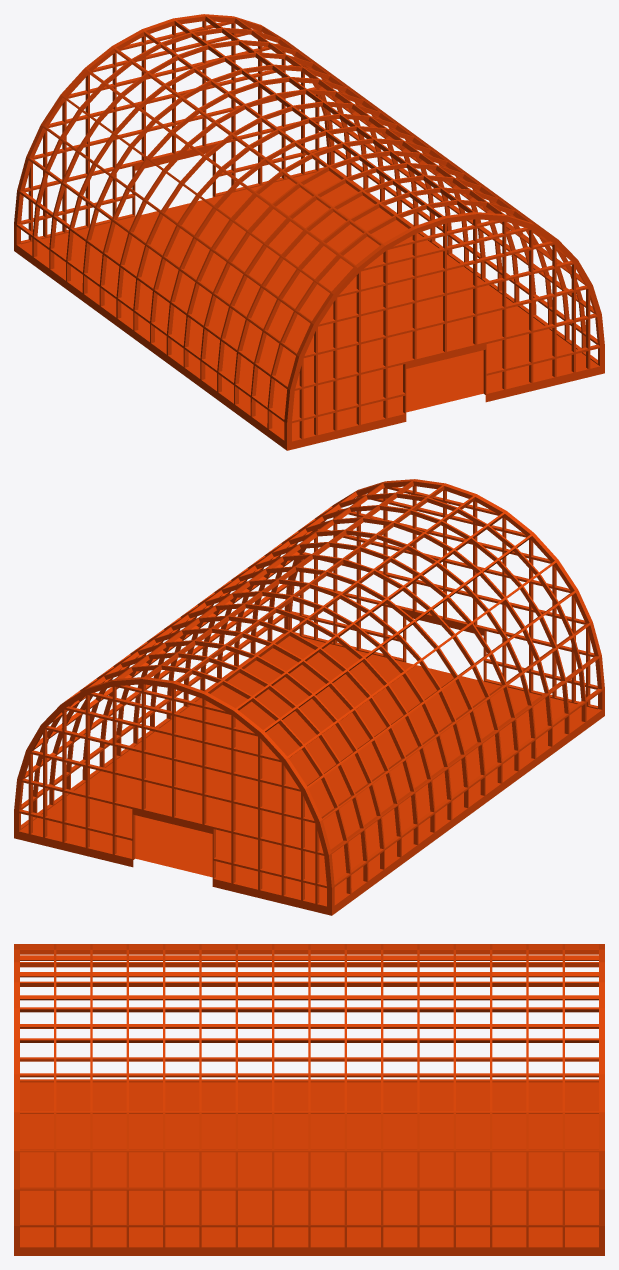
File: Biosphere_frame.fbx
3 views of the same model, one above another, from view 1: azimuth 30°, elevation 25°; view 2: azimuth 150°, elevation 25°; view 3: azimuth 270°, elevation 25° (orthographic). The views are drawn at different scales.
Parts seen in each view (by area): view 1: BioSphere01; view 2: BioSphere01; view 3: BioSphere01.
Part boxes in pixels (x1,y1,x2,y2): BioSphere01: (14,14,604,450); BioSphere01: (14,479,604,915); BioSphere01: (14,944,604,1255).
Bounding box in the file's own units: 3280 × 1910 × 4880.
